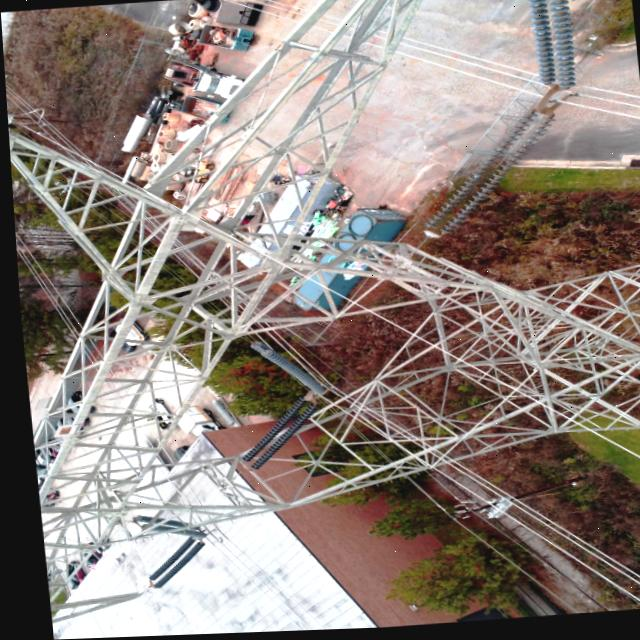poles: (6, 0, 640, 602)
wires: (424, 464, 640, 613)
